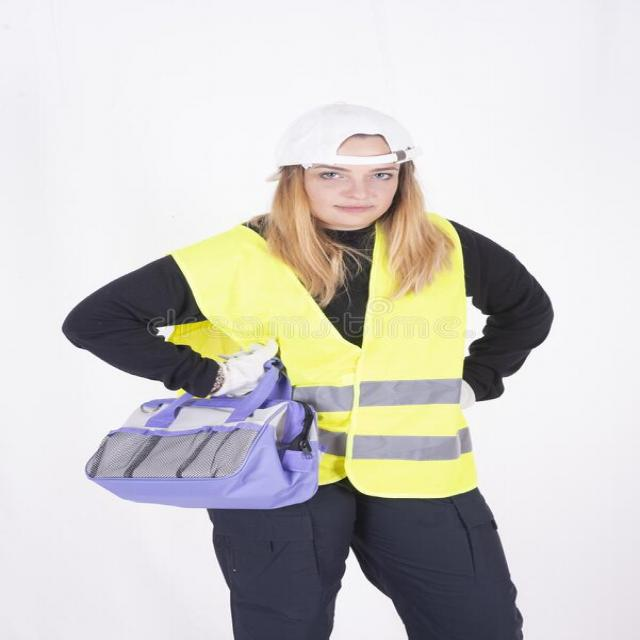Reflective-Jacket: (178, 218, 484, 499)
Safety-Helmet: (264, 97, 422, 172)
